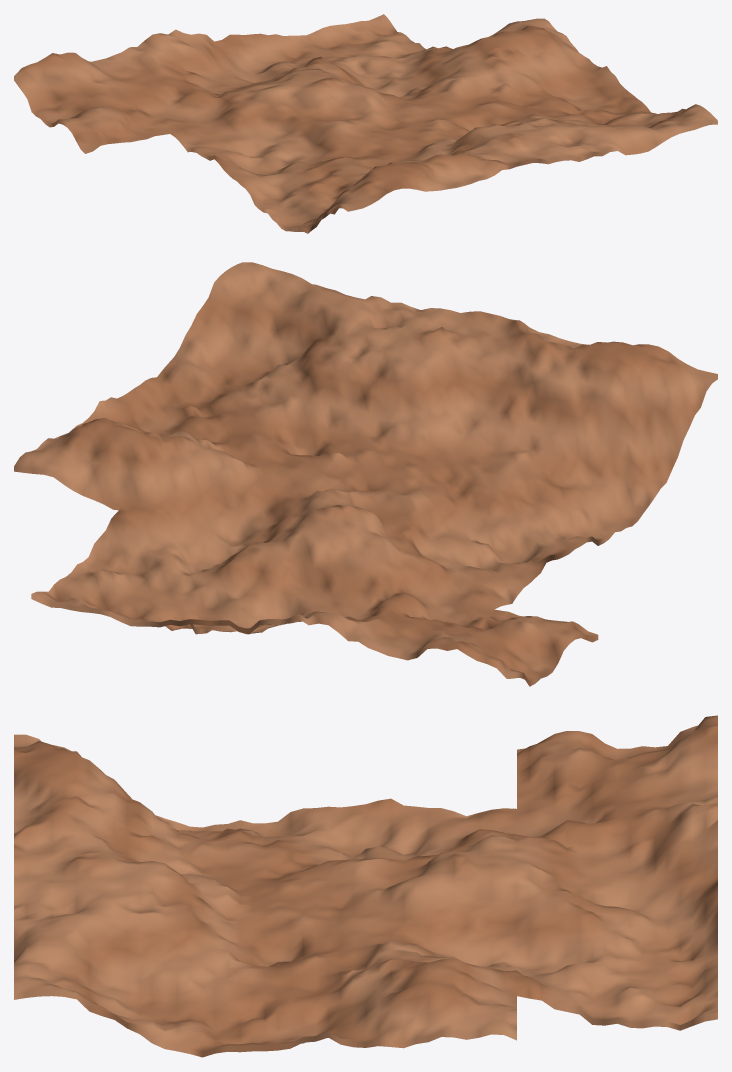
The model's file is terrain-055.glb.
3 renders of one model, top to bottom at view 1: azimuth 30°, elevation 25°; view 2: azimuth 150°, elevation 25°; view 3: azimuth 270°, elevation 25°, orthographic. The views are drawn at different scales.
Parts seen in each view (by area): view 1: terrain-055; view 2: terrain-055; view 3: terrain-055.
Boxes of the visible parts, <box> form: terrain-055: <box>14,14,717,233</box>; terrain-055: <box>14,262,717,686</box>; terrain-055: <box>14,715,717,1057</box>.
Size of the model in its own units: 472 by 83.37 by 448.
